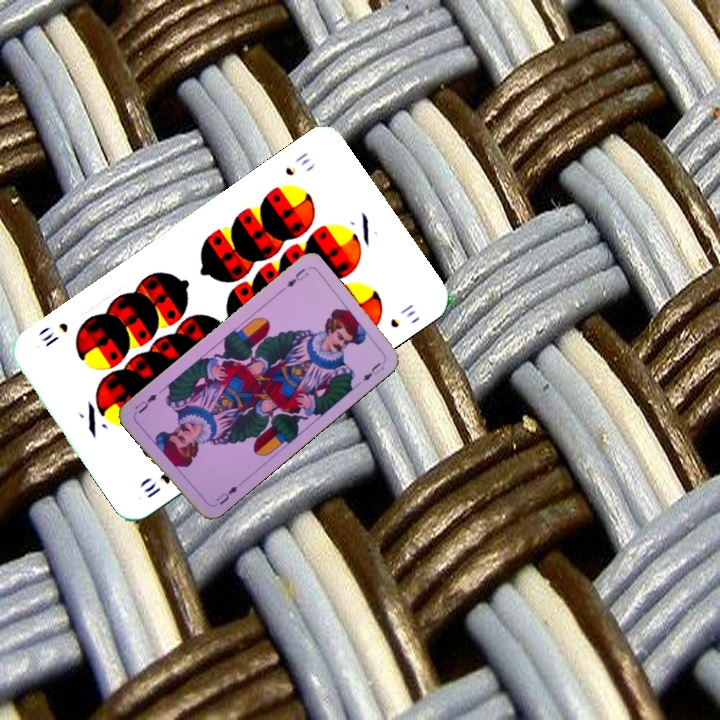EU: (212, 479, 244, 508), (282, 264, 311, 290)
S10: (140, 469, 174, 501), (281, 148, 313, 179)
